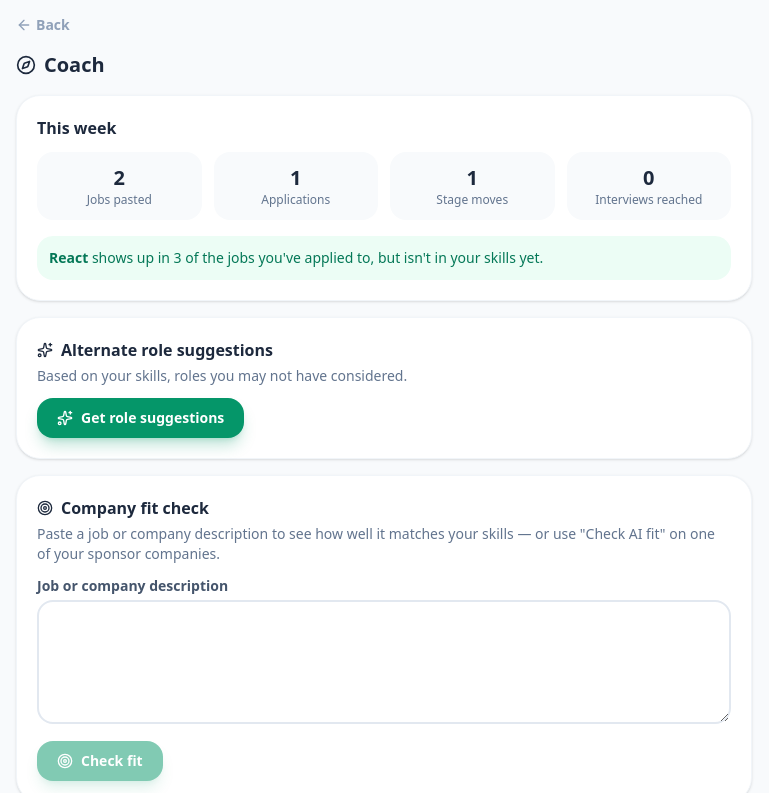
it: Coach › checks fit and renders the result when a key is set
Type "Looking for a React developer." into the text box labelled "Job or company description" at (384, 662), box [37,600,731,724]
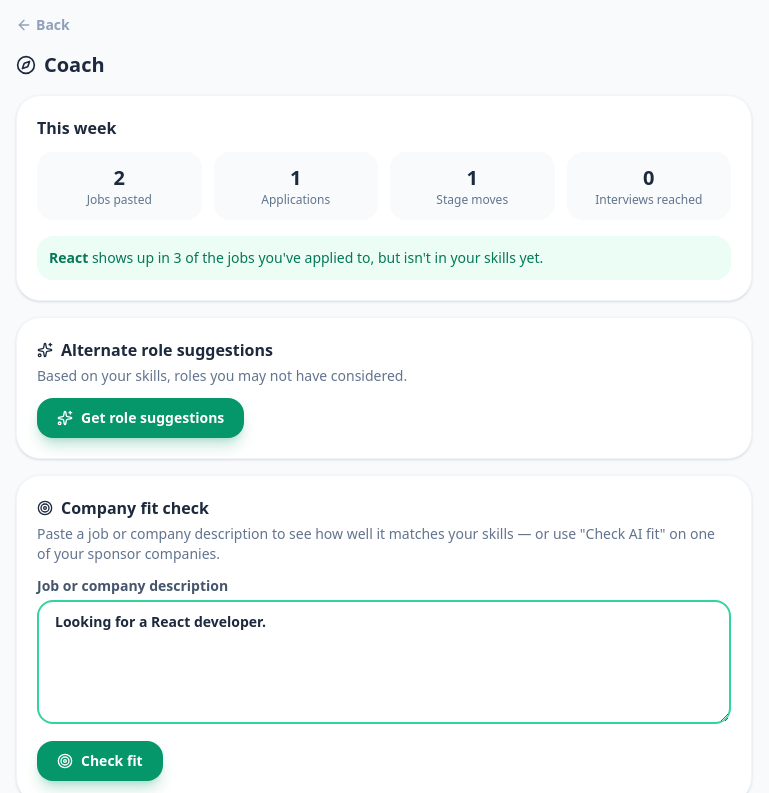
Click the button "Check fit" at (100, 761), box [37,741,163,781]
(page scrolled)
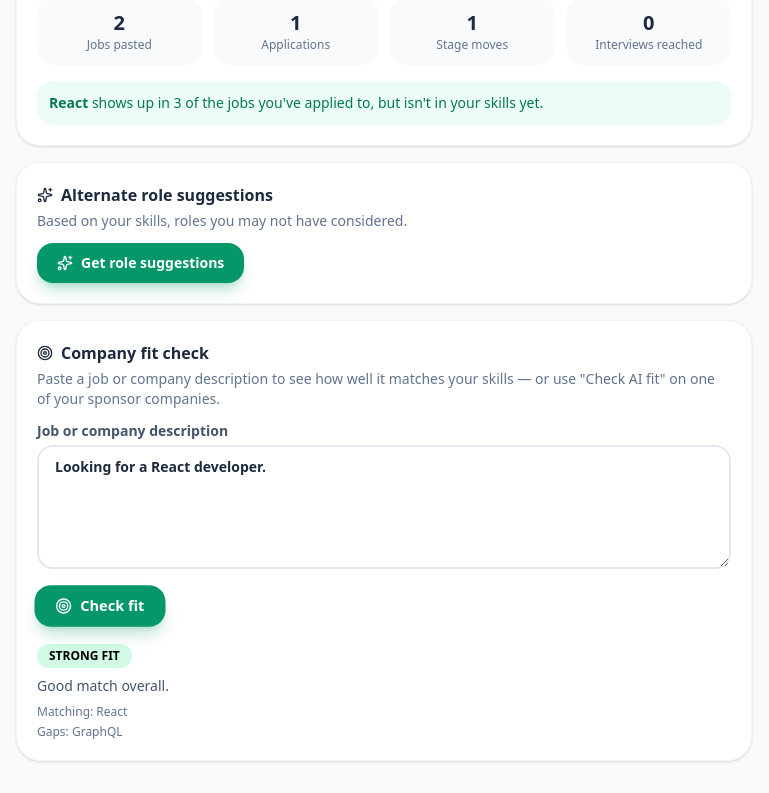
Now the text "strong fit" is shown, box [37,644,132,668]
Now the text "Good match overall." is shown, box [37,676,169,695]
Now the text "Matching: React" is shown, box [37,703,127,720]
